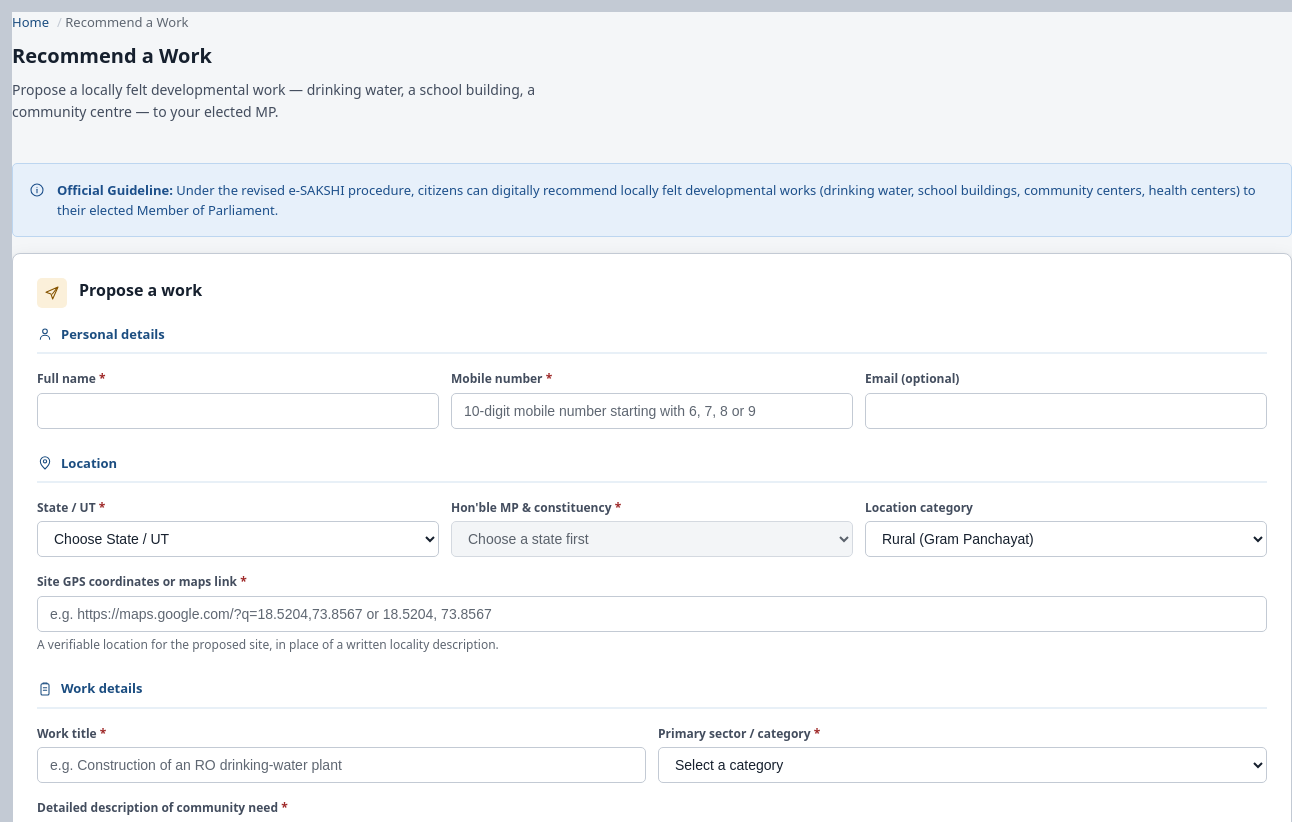
RecommendWork — citizen view › only shows MPs for the selected state
Expected: the dropdown labelled "Hon'ble MP & constituency *" is disabled, [451,521,853,557]
Select "Rajasthan" in the dropdown labelled "State / UT *": (238, 539) [37,521,439,557]
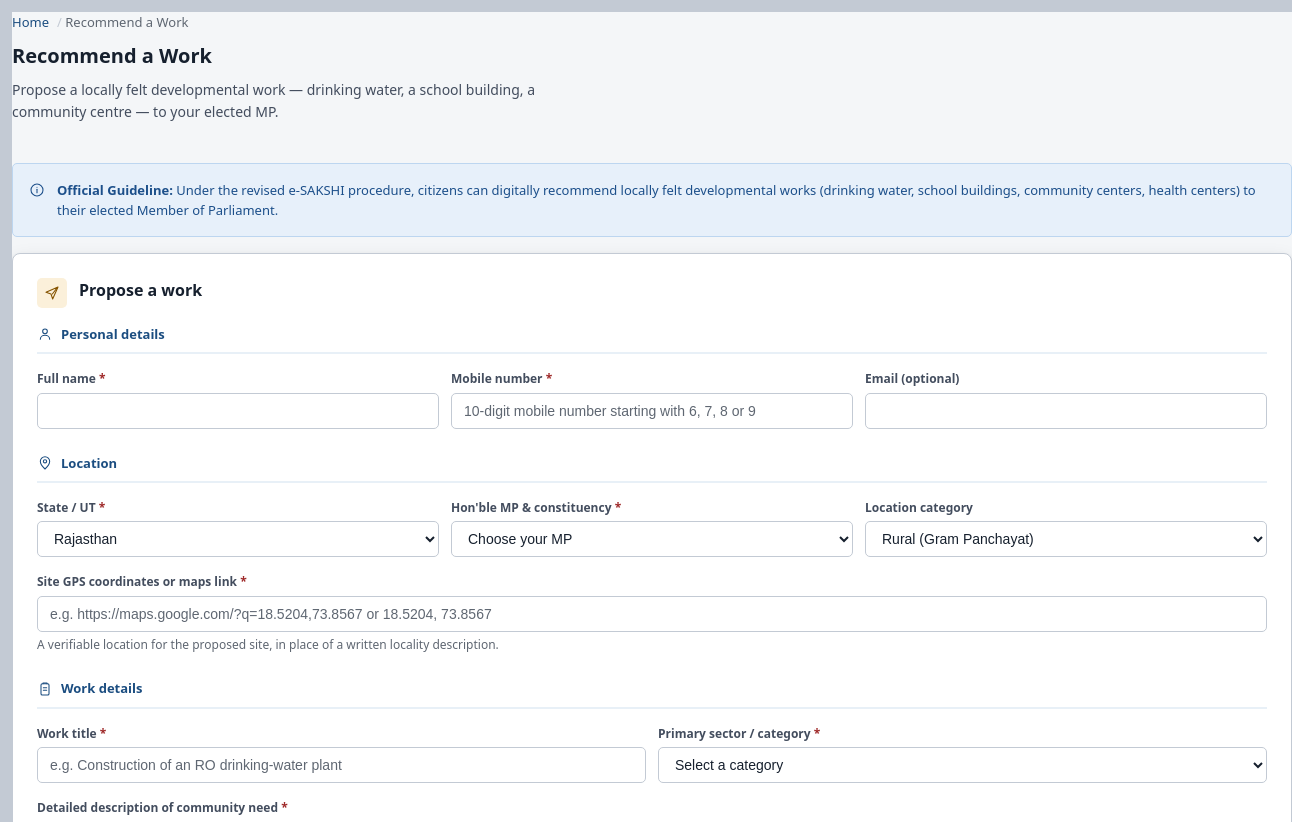
Expected: the dropdown labelled "Hon'ble MP & constituency *" is enabled, [451,521,853,557]
